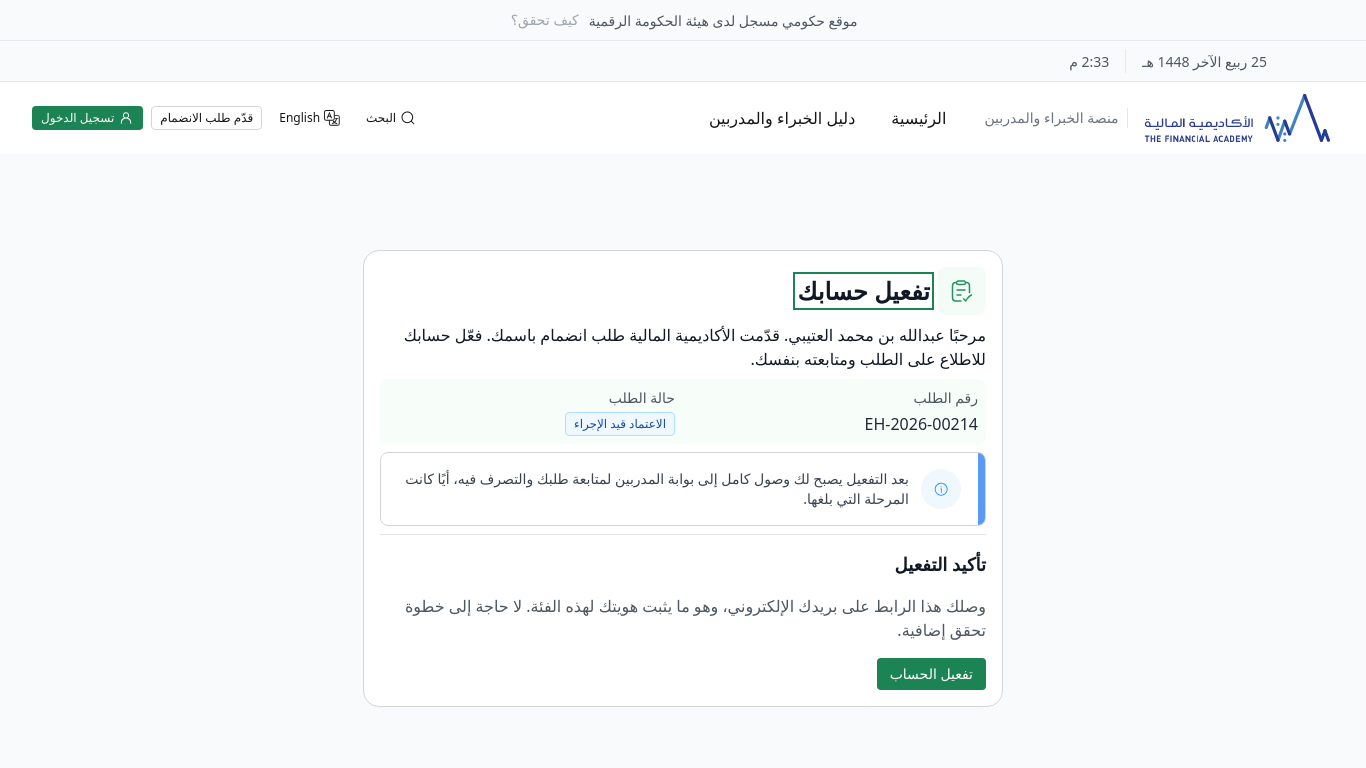
Test: J-02/F4 — Nominee Account Activation & Portal Access › J-02/F4/AC-4: activates an application already deep in screening, and says access does not wait
This screenshot has width=1366, height=768.
Check: the heading "تفعيل حسابك" is shown, box top-left (798, 276), bottom-right (930, 306)
Check: the text "الاعتماد قيد الإجراء" is shown, box top-left (574, 415), bottom-right (666, 433)
Click the button "تفعيل الحساب" at (931, 674), box top-left (877, 658), bottom-right (986, 690)
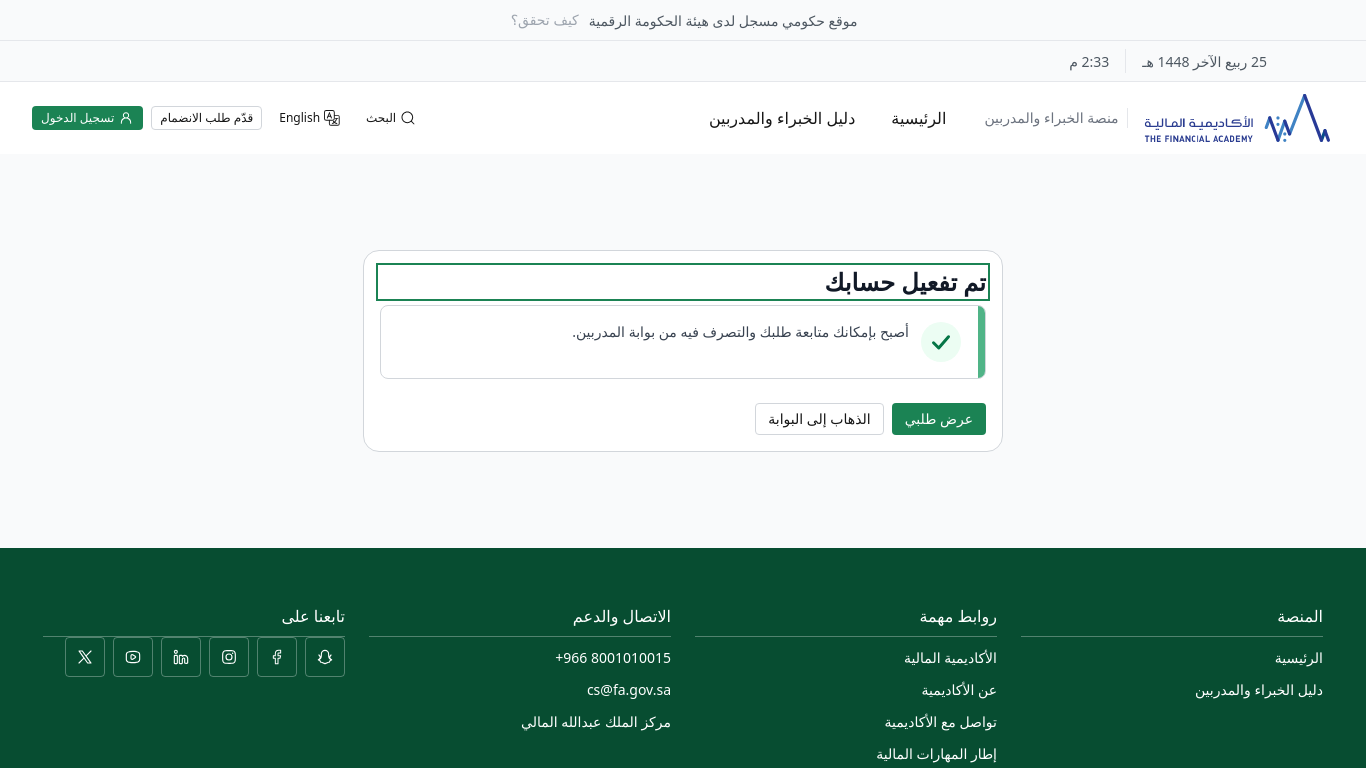
Check: the heading "تم تفعيل حسابك" is shown, box top-left (825, 265), bottom-right (986, 298)
Check: the link "عرض طلبي" is shown, box top-left (892, 403), bottom-right (986, 435)
